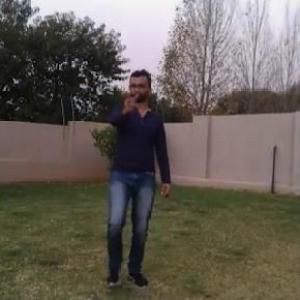takeoff-hand: (115, 83, 143, 118)
